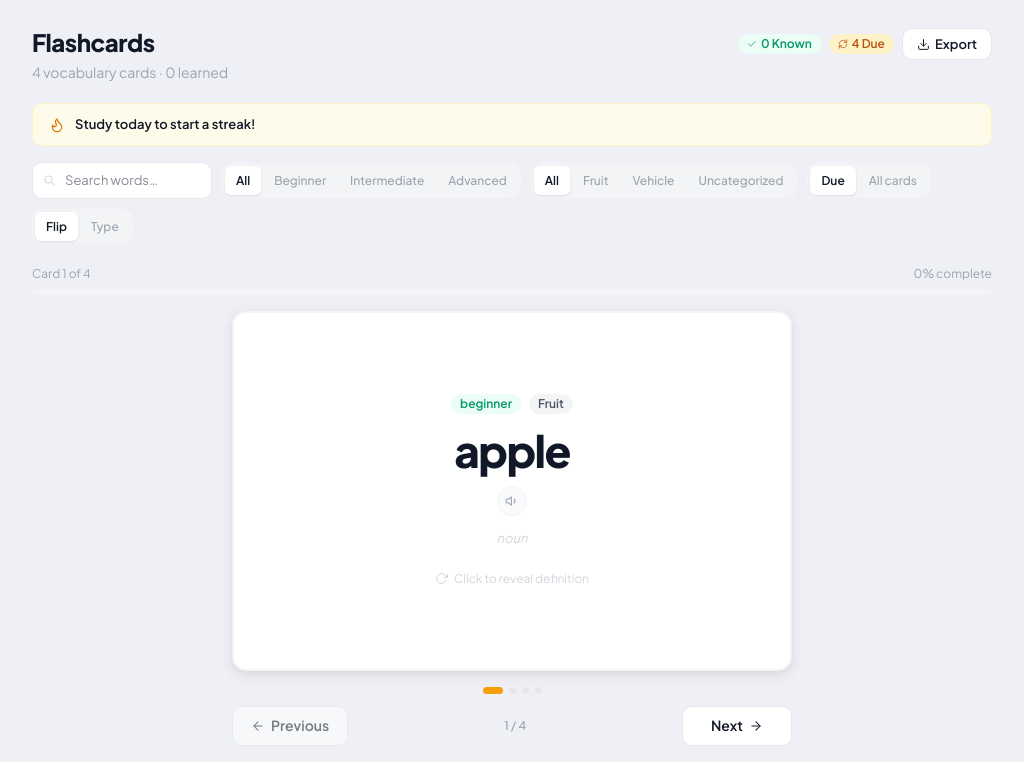
Test: FlashcardsScreen tag filter › filters to the Uncategorized bucket for cards without a tag
The width and height of the screenshot is (1024, 762).
Click the button "All cards". click: [893, 180]
box: [858,166,928,195]
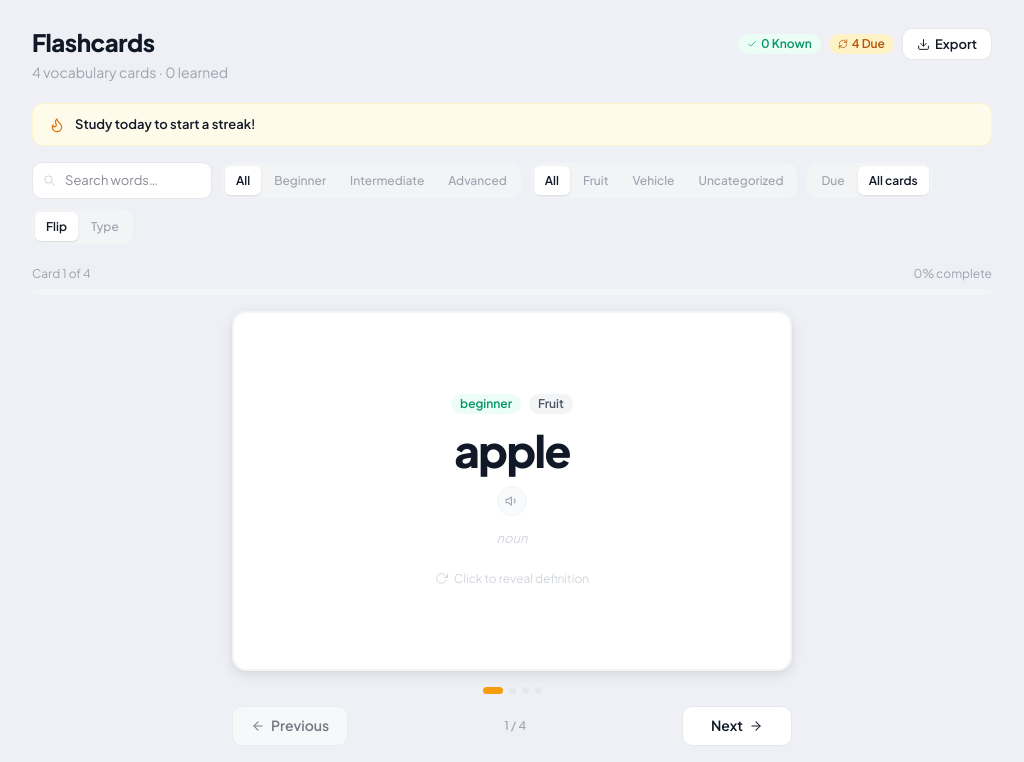
Click the button "Uncategorized". click: [741, 180]
box: [687,166,794,195]
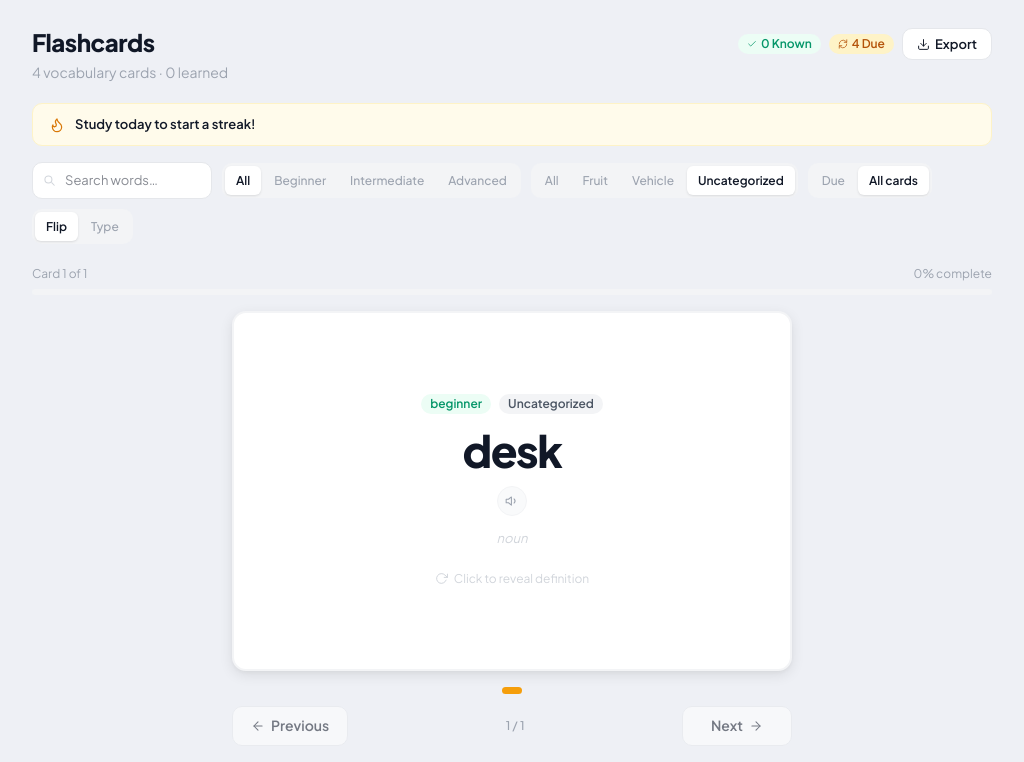
Result: the text "desk" is shown at [462,426,562,474]
Result: the text "apple" is gone
